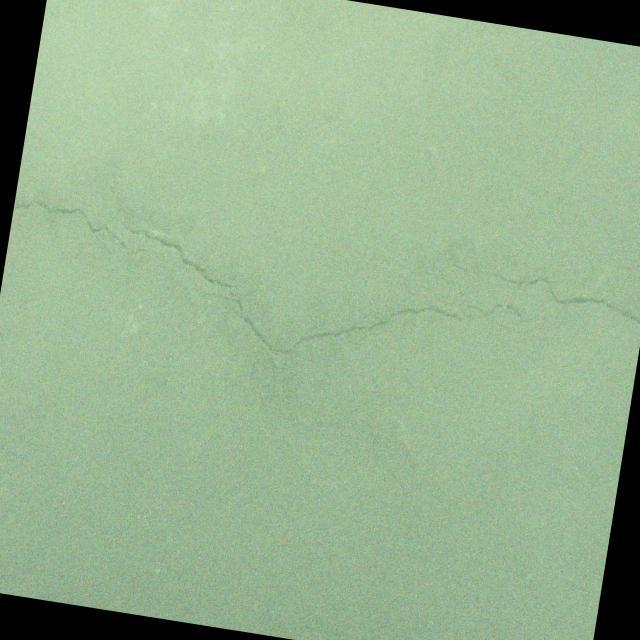crack: (96, 222, 551, 440), (446, 262, 640, 327), (282, 408, 416, 491), (10, 197, 164, 262), (372, 536, 400, 617)
